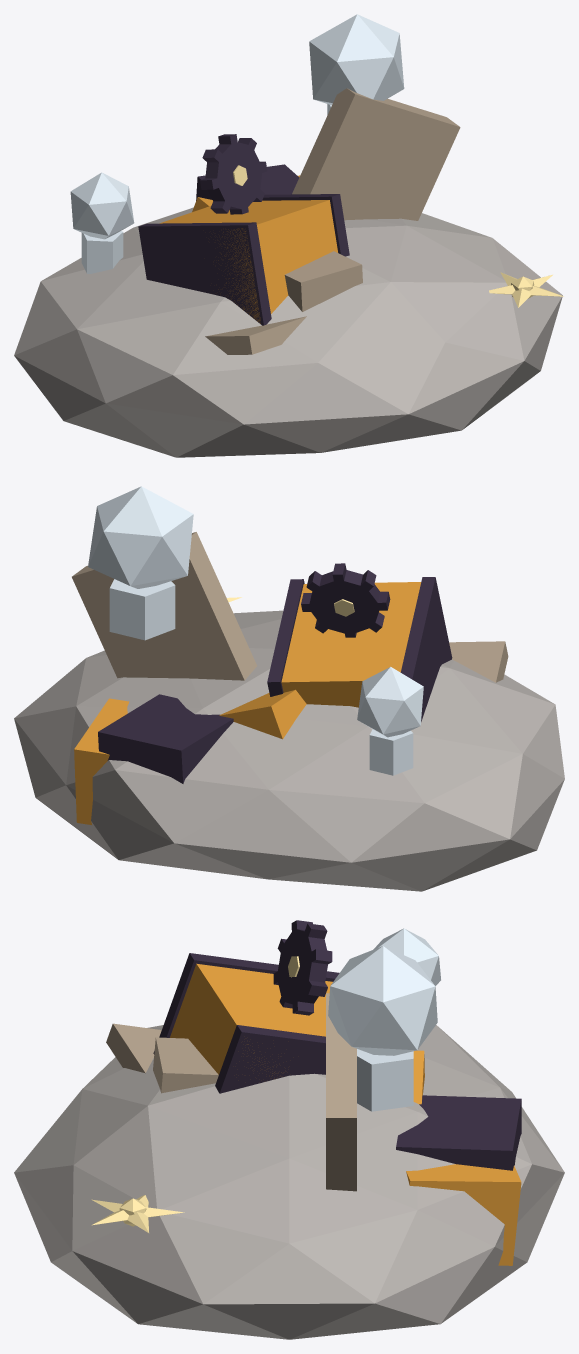
File: factory-ruin.glb
3 views of the same model, one above another, from view 1: azimuth 30°, elevation 25°; view 2: azimuth 150°, elevation 25°; view 3: azimuth 270°, elevation 25° (orthographic). The views are drawn at different scales.
Parts seen in each view (by area): view 1: factory-ruin; view 2: factory-ruin; view 3: factory-ruin.
Part boxes in pixels (<box>): factory-ruin: <box>14,14,563,457</box>; factory-ruin: <box>14,486,564,891</box>; factory-ruin: <box>14,920,564,1339</box>.
Bounding box in the file's own units: 1.19 × 0.7194 × 1.06.
